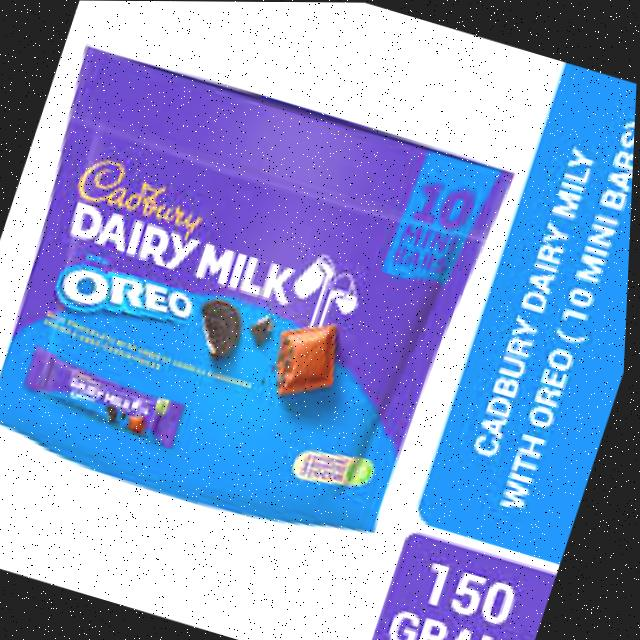cadbury: (0, 44, 515, 556)
